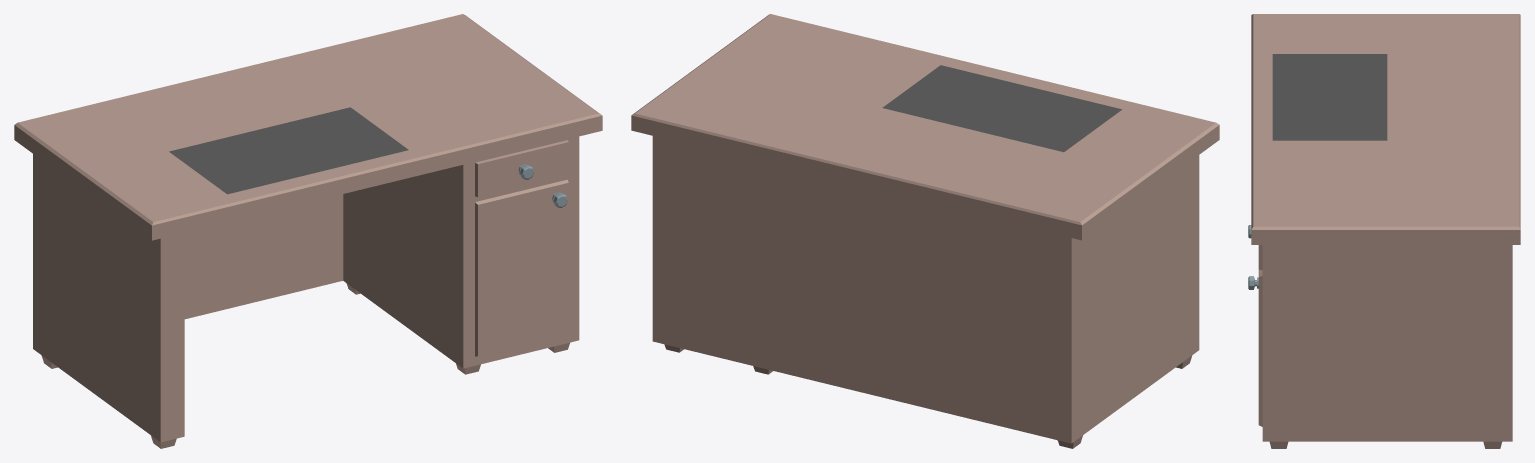
Rendered from Desk_01.gltf.
The picture shows the model from 3 angles, left to right: view 1: azimuth 30°, elevation 25°; view 2: azimuth 150°, elevation 25°; view 3: azimuth 270°, elevation 25°; orthographic projection. The views are drawn at different scales.
Parts seen in each view (by area): view 1: node-0; view 2: node-0; view 3: node-0.
Boxes of the visible parts, x1,y1,x2,y2 form: node-0: (14, 14, 602, 448); node-0: (631, 14, 1219, 448); node-0: (1248, 14, 1520, 448).
Bounding box in the file's own units: 9.94 × 5.01 × 5.31.
